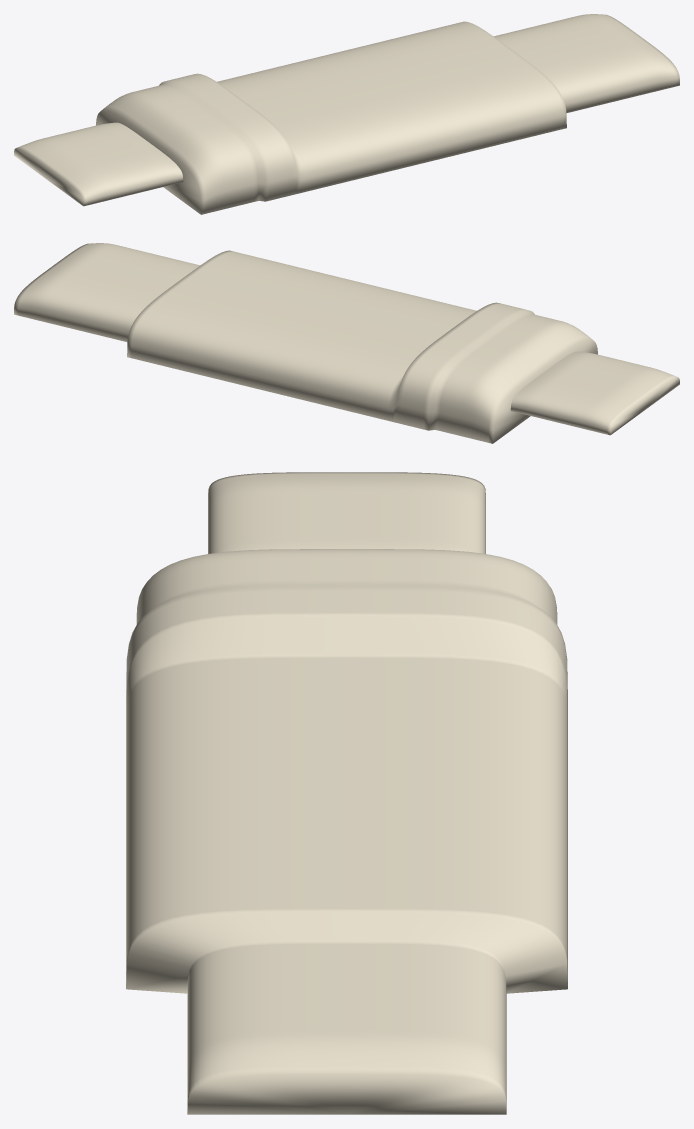
The model's file is kestrel_roof.glb.
The picture shows the model from 3 angles, top to bottom: view 1: azimuth 30°, elevation 25°; view 2: azimuth 150°, elevation 25°; view 3: azimuth 270°, elevation 25°; orthographic projection. The views are drawn at different scales.
Parts seen in each view (by area): view 1: roof_main, roof_cockpit; view 2: roof_main, roof_cockpit; view 3: roof_main, roof_cockpit.
Boxes of the visible parts, x1,y1,x2,y2 form: roof_main: (96,14,679,214); roof_cockpit: (14,122,183,206); roof_main: (14,243,597,443); roof_cockpit: (510,351,679,435); roof_main: (126,549,567,1114); roof_cockpit: (208,472,485,553).
Bounding box in the file's own units: 26.7 × 2.35 × 8.64.
